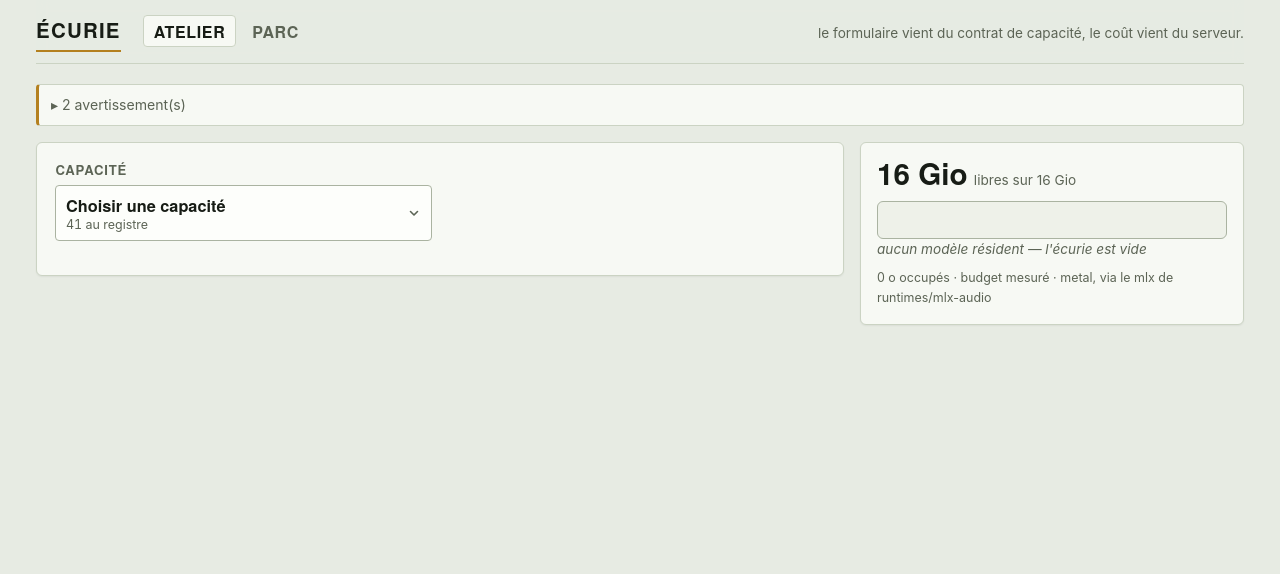
Test: le choix de la capacité et du variant › le titulaire est preselectionne, et ses defauts avec
What coordinates should you click on to do the following:
click the button "Choisir une capacité 41 au registre"
I would click on:
 (146, 205)
Its box is [55,185,432,241].
(page scrolled)
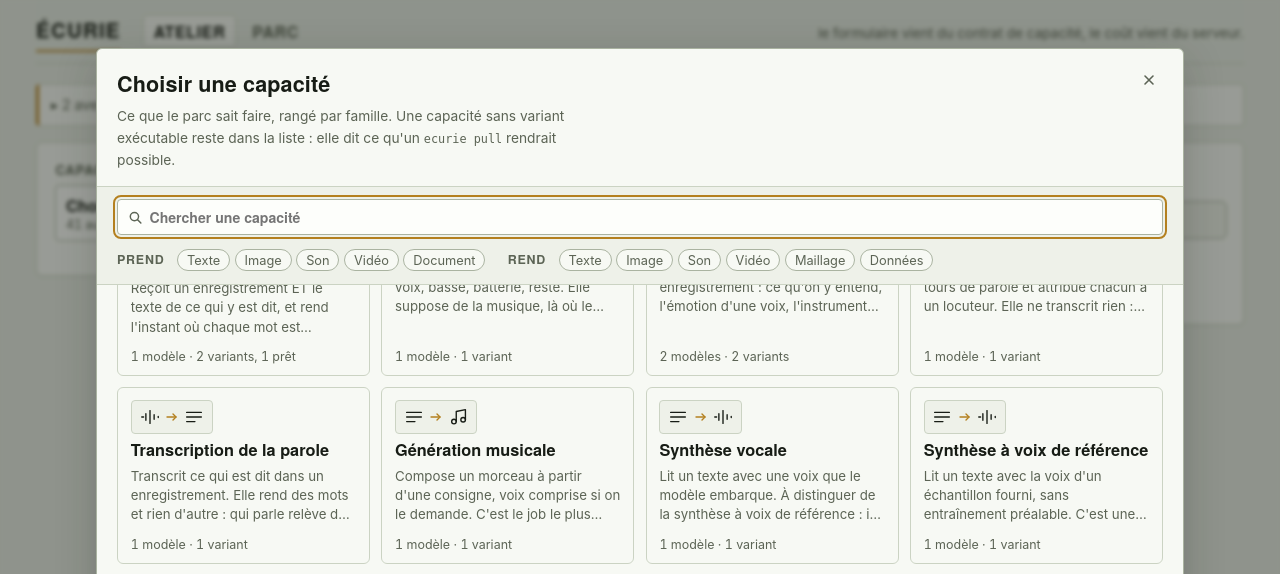
What coordinates should you click on to do the following:
click the button "Synthèse vocale"
I would click on:
 (772, 475)
Its box is [646,387,899,564].
(page scrolled)
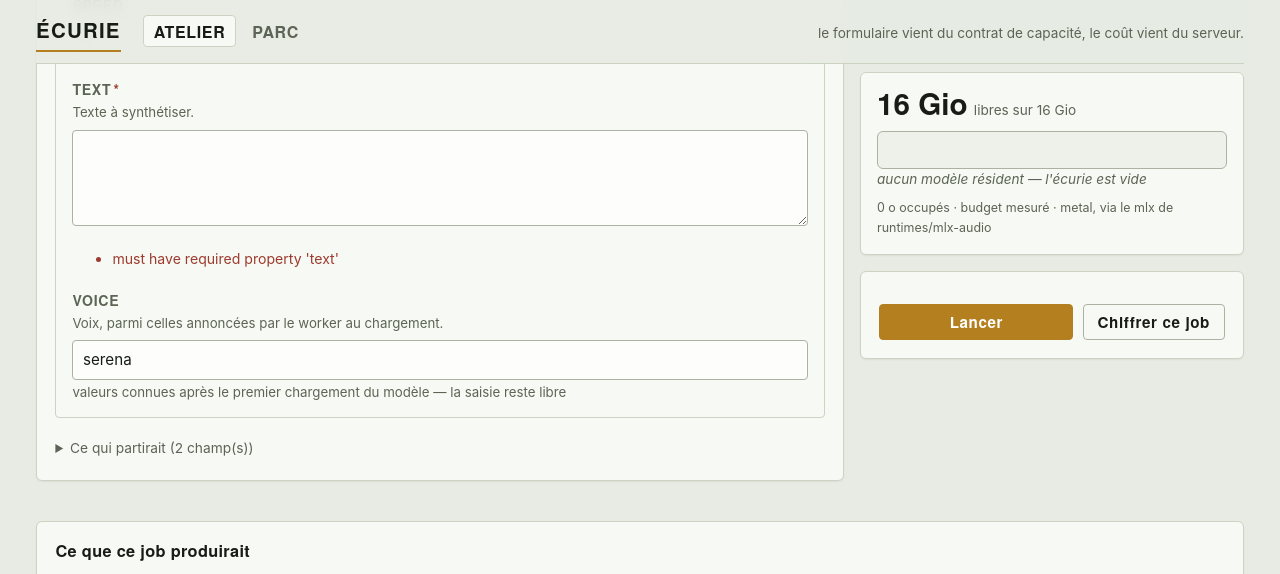
Now the field with id "root_voice" holds "serena", box [72,340,808,380]
